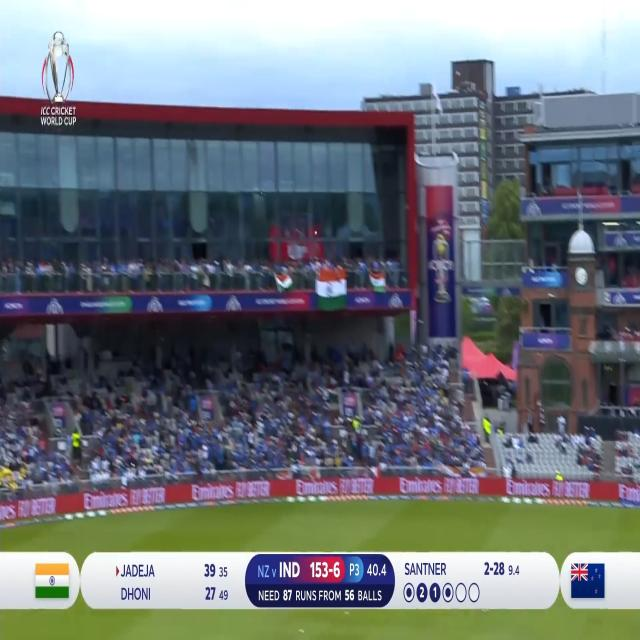ball: (313, 228, 319, 239)
